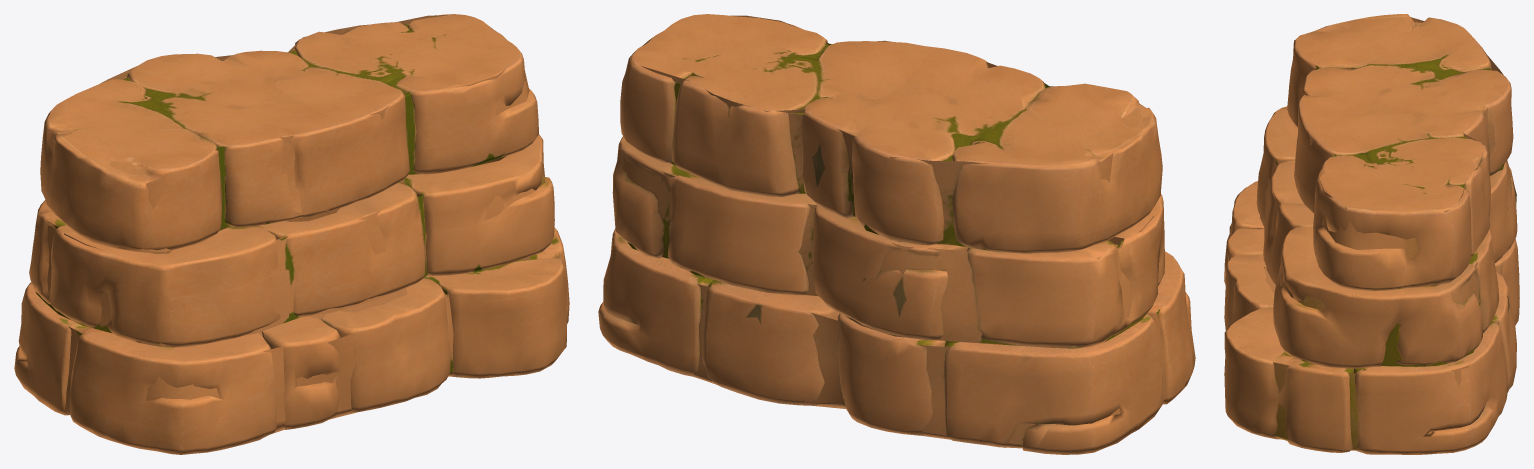
The model's file is gorge-cliff.glb.
3 views of the same model, side by side, from view 1: azimuth 30°, elevation 25°; view 2: azimuth 150°, elevation 25°; view 3: azimuth 270°, elevation 25° (orthographic). The views are drawn at different scales.
Parts seen in each view (by area): view 1: gorge-cliff_LOD0; view 2: gorge-cliff_LOD0; view 3: gorge-cliff_LOD0.
Boxes of the visible parts, x1,y1,x2,y2 form: gorge-cliff_LOD0: (14, 14, 569, 454); gorge-cliff_LOD0: (598, 14, 1195, 454); gorge-cliff_LOD0: (1224, 14, 1519, 454).
Size of what is drawn, in the model's own units: 1 by 0.519 by 0.5853.
1 material, 1 textured.
